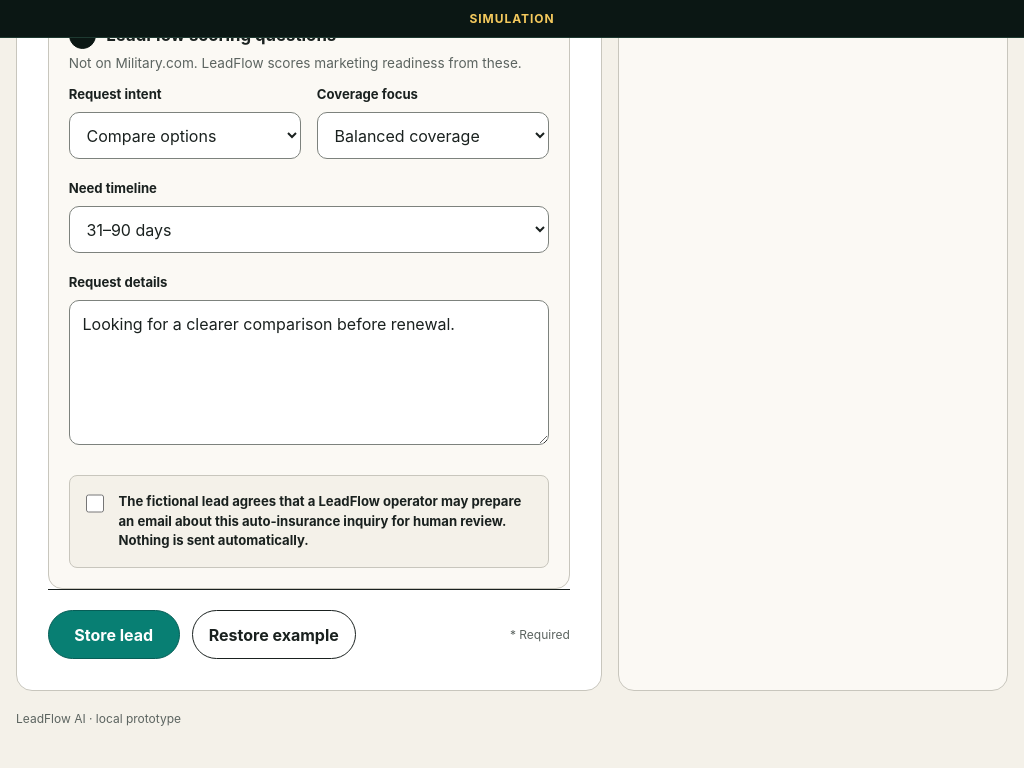
Scenario: Phase 1 intake workspace › renders the committed identity and moves focus only after persistence
The width and height of the screenshot is (1024, 768).
(page scrolled)
Click the button "Store lead". click: (114, 635)
box: [48, 610, 180, 659]
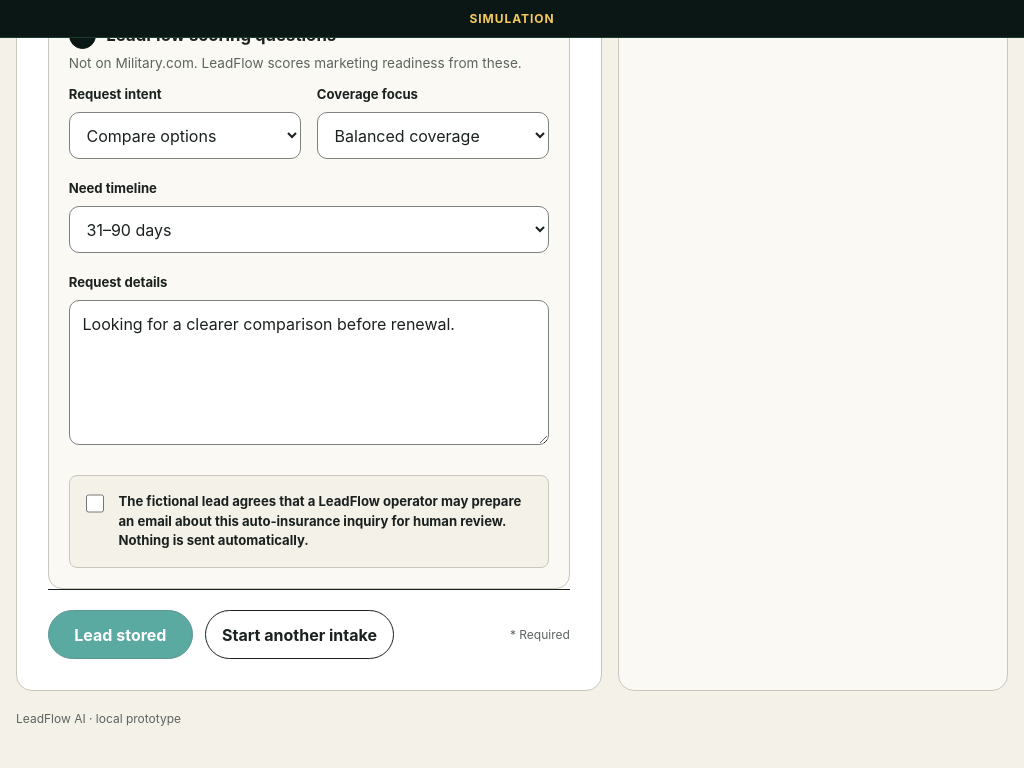
Check: the button "Lead stored" is disabled, box [48, 610, 193, 659]
